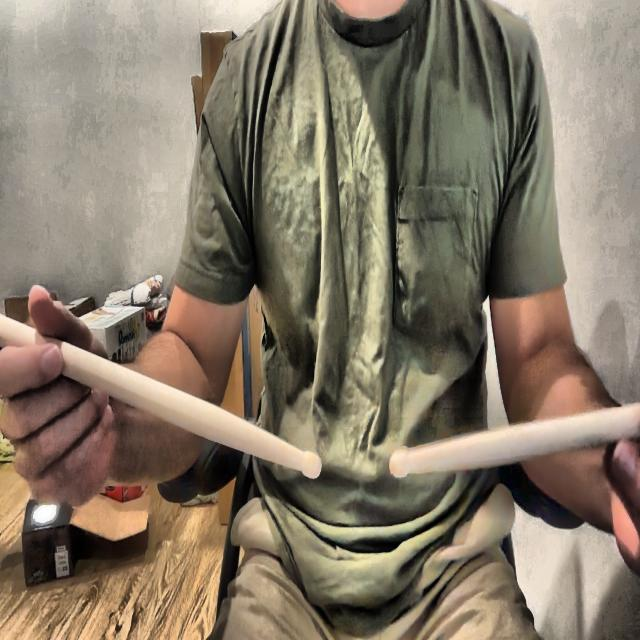Drumstick-Heads: (300, 446, 324, 484), (386, 449, 411, 477)
